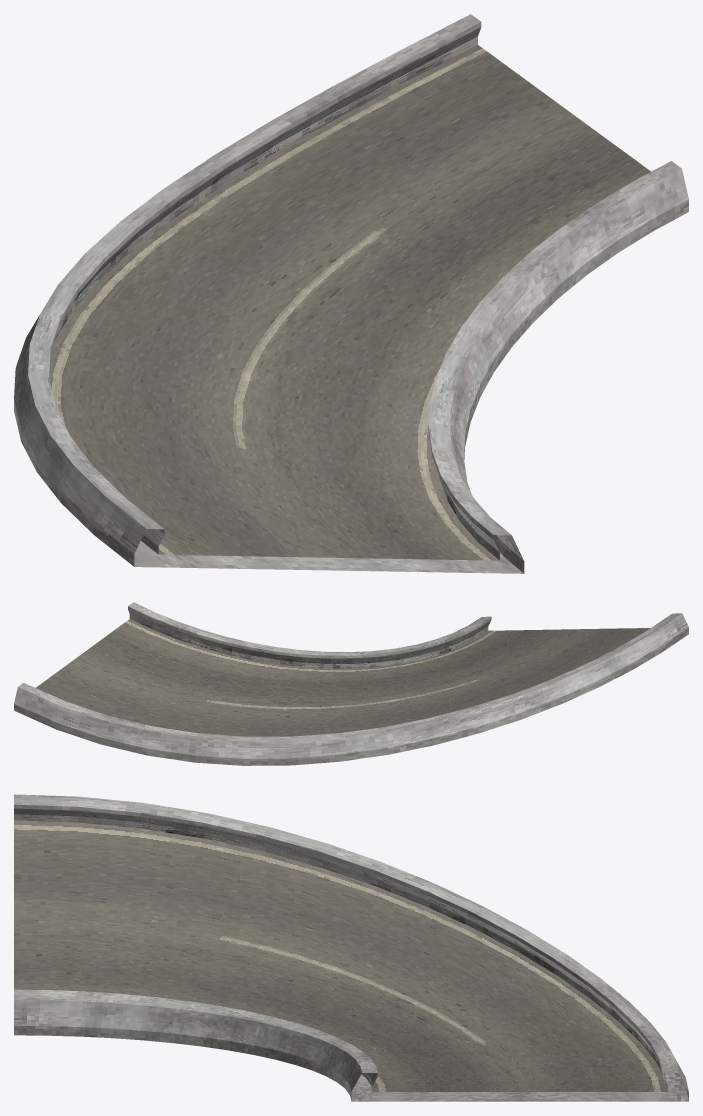
Rendered from road-Turn-HalfBankedRight-BiSlopeUp-Up1-Right-Size2.glb.
The picture shows the model from 3 angles, top to bottom: view 1: azimuth 30°, elevation 25°; view 2: azimuth 150°, elevation 25°; view 3: azimuth 270°, elevation 25°; orthographic projection. The views are drawn at different scales.
Visible parts, largest first — view 1: road-Turn-HalfBankedRight-BiSlopeUp-Up1-Right-Size2; view 2: road-Turn-HalfBankedRight-BiSlopeUp-Up1-Right-Size2; view 3: road-Turn-HalfBankedRight-BiSlopeUp-Up1-Right-Size2.
Boxes of the visible parts, x1,y1,x2,y2 form: road-Turn-HalfBankedRight-BiSlopeUp-Up1-Right-Size2: (14,14,688,573); road-Turn-HalfBankedRight-BiSlopeUp-Up1-Right-Size2: (14,602,688,765); road-Turn-HalfBankedRight-BiSlopeUp-Up1-Right-Size2: (14,794,688,1101).
Size of the model in its own units: 2 by 0.3437 by 2.
Materials: 2 (2 with a texture image).
